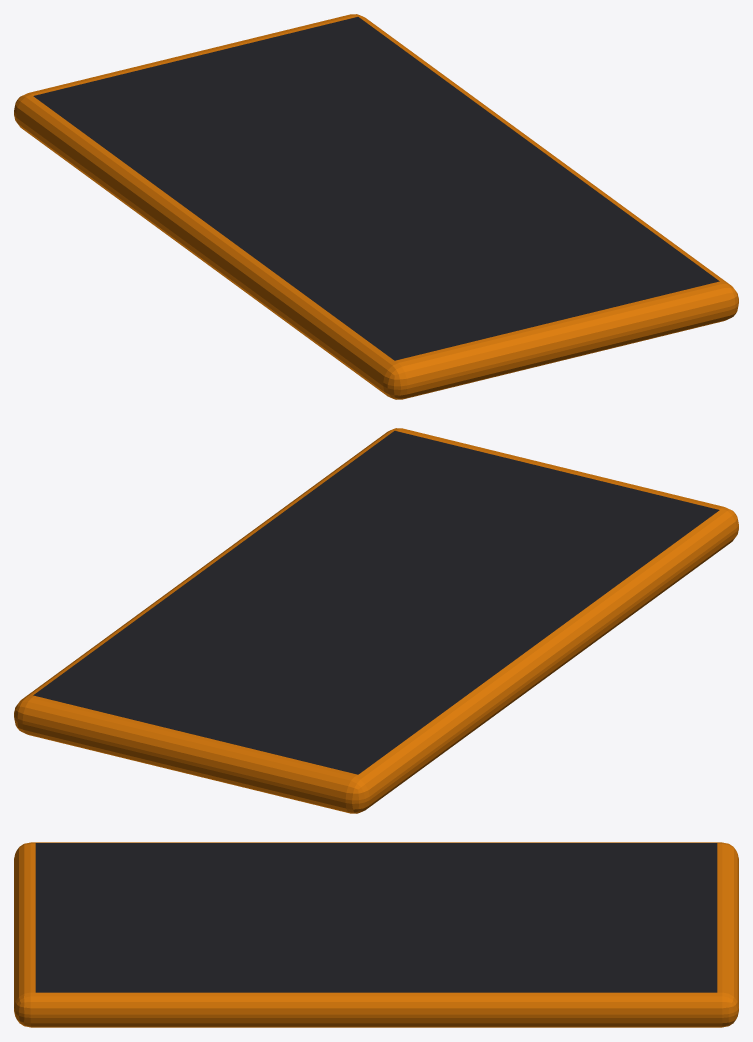
File: Phone_554.glb
The picture shows the model from 3 angles, top to bottom: view 1: azimuth 30°, elevation 25°; view 2: azimuth 150°, elevation 25°; view 3: azimuth 270°, elevation 25°; orthographic projection. The views are drawn at different scales.
Parts seen in each view (by area): view 1: Phone_Screen, Phone_Body; view 2: Phone_Screen, Phone_Body; view 3: Phone_Screen, Phone_Body.
Part boxes in pixels (x1,y1,x2,y2): Phone_Screen: (33, 17, 719, 360); Phone_Body: (14, 14, 738, 399); Phone_Screen: (33, 431, 719, 774); Phone_Body: (14, 428, 738, 813); Phone_Screen: (35, 843, 717, 992); Phone_Body: (14, 842, 738, 1027).
Bounding box in the file's own units: 0.0791 × 0.0077 × 0.1491.
